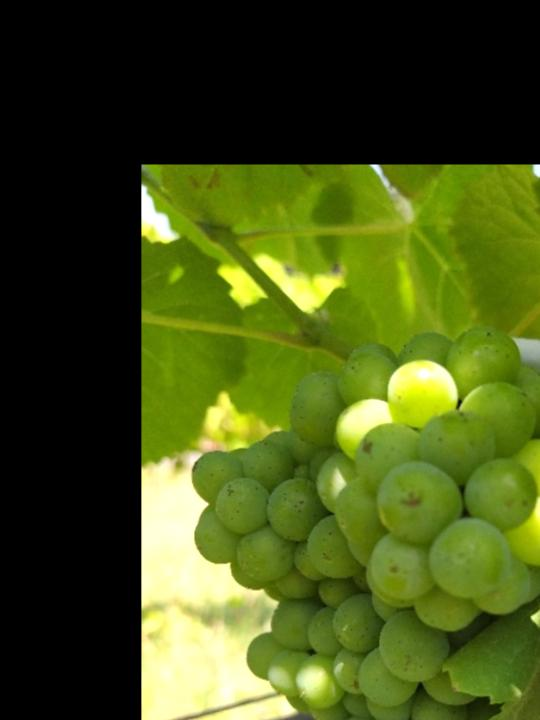grape: (191, 322, 540, 720)
